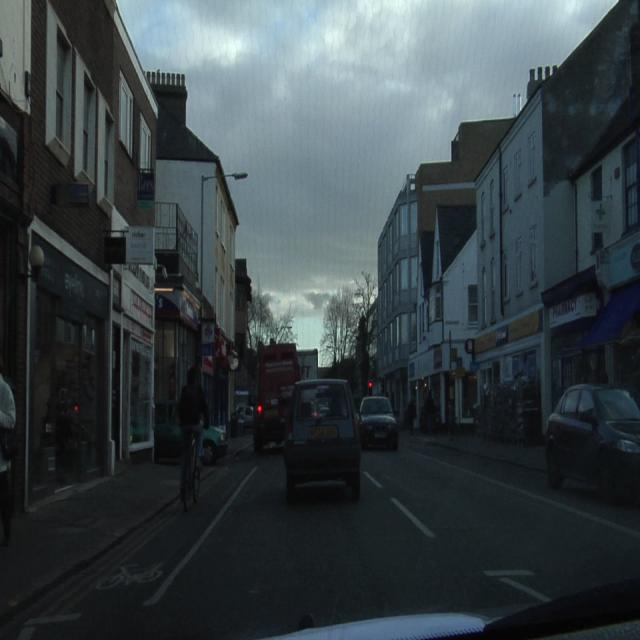Bicyclist: (179, 365, 207, 510)
Building: (375, 6, 638, 438), (1, 5, 176, 511), (156, 72, 252, 445)
Car: (546, 386, 639, 498), (284, 379, 361, 502), (360, 397, 397, 449), (203, 427, 227, 462)
Road: (2, 434, 639, 633)
Tree: (248, 287, 295, 352), (322, 285, 358, 363)
person: (1, 370, 15, 544)
